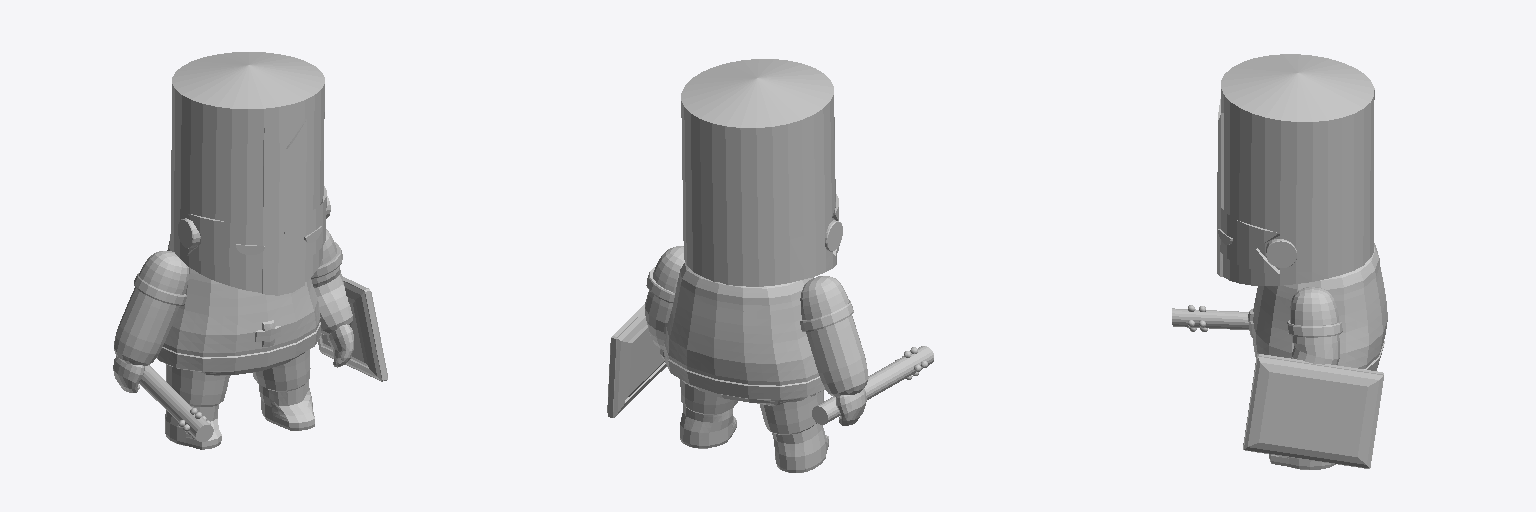
Rendered from player.obj.
The picture shows the model from 3 angles: view 1: azimuth 30°, elevation 25°; view 2: azimuth 150°, elevation 25°; view 3: azimuth 270°, elevation 25°; orthographic projection.
Parts seen in each view (by area): view 1: KNIGHT_BODY1_CENTRE_HEAD_HEAD1_Cylinder2_Cylinder, KNIGHT_BODY1_BODY, KNIGHT_BODY1_CENTRE_HEAD_HEAD1_Cylinder6_Cylinder5, KNIGHT_meshes_Left_ARM_Left_ARM1, KNIGHT_meshes_Left_LEG_Left_LEG1, KNIGHT_meshes_Right_LEG_Right_LEG1, KNIGHT_BODY1_CENTRE_CHEST_LEFT_SHOULDER_LEFT_ARM_HAND_Cube_Cube, KNIGHT_meshes_Right_ARM_Right_ARM1, KNIGHT_BODY1_CENTRE_CHEST_RIGHT_SHOULDER_RIGHT_ARM_HAND_11_.012, KNIGHT_BODY1_CENTRE_CHEST_LEFT_SHOULDER_LEFT_ARM_HAND_HAND1, KNIGHT_BODY1_CENTRE_CHEST_RIGHT_SHOULDER_RIGHT_ARM_HAND_11_HAND, KNIGHT_BODY1_CENTRE_HEAD_HEAD1_Cylinder3_Cylinder1; view 2: KNIGHT_BODY1_CENTRE_HEAD_HEAD1_Cylinder2_Cylinder, KNIGHT_BODY1_BODY, KNIGHT_meshes_Left_ARM_Left_ARM1, KNIGHT_BODY1_CENTRE_CHEST_LEFT_SHOULDER_LEFT_ARM_HAND_Cube_Cube, KNIGHT_meshes_Right_LEG_Right_LEG1, KNIGHT_meshes_Left_LEG_Left_LEG1, KNIGHT_meshes_Right_ARM_Right_ARM1, KNIGHT_BODY1_CENTRE_CHEST_RIGHT_SHOULDER_RIGHT_ARM_HAND_11_.012, KNIGHT_BODY1_CENTRE_CHEST_RIGHT_SHOULDER_RIGHT_ARM_HAND_11_HAND; view 3: KNIGHT_BODY1_CENTRE_HEAD_HEAD1_Cylinder2_Cylinder, KNIGHT_BODY1_CENTRE_CHEST_LEFT_SHOULDER_LEFT_ARM_HAND_Cube_Cube, KNIGHT_BODY1_BODY, KNIGHT_meshes_Right_ARM_Right_ARM1, KNIGHT_BODY1_CENTRE_HEAD_HEAD1_Cylinder6_Cylinder5, KNIGHT_BODY1_CENTRE_CHEST_RIGHT_SHOULDER_RIGHT_ARM_HAND_11_.012, KNIGHT_BODY1_CENTRE_HEAD_HEAD1_Cylinder3_Cylinder1, KNIGHT_meshes_Left_LEG_Left_LEG1.
Part boxes in pixels (x1,y1,x2,y2): KNIGHT_BODY1_CENTRE_HEAD_HEAD1_Cylinder2_Cylinder: (170, 52, 324, 292); KNIGHT_BODY1_BODY: (157, 241, 320, 375); KNIGHT_BODY1_CENTRE_HEAD_HEAD1_Cylinder6_Cylinder5: (187, 119, 326, 295); KNIGHT_meshes_Left_ARM_Left_ARM1: (114, 251, 188, 365); KNIGHT_meshes_Left_LEG_Left_LEG1: (253, 349, 314, 430); KNIGHT_meshes_Right_LEG_Right_LEG1: (165, 364, 229, 449); KNIGHT_BODY1_CENTRE_CHEST_LEFT_SHOULDER_LEFT_ARM_HAND_Cube_Cube: (318, 277, 387, 381); KNIGHT_meshes_Right_ARM_Right_ARM1: (311, 229, 352, 334); KNIGHT_BODY1_CENTRE_CHEST_RIGHT_SHOULDER_RIGHT_ARM_HAND_11_.012: (139, 365, 213, 441); KNIGHT_BODY1_CENTRE_CHEST_LEFT_SHOULDER_LEFT_ARM_HAND_HAND1: (327, 324, 353, 367); KNIGHT_BODY1_CENTRE_CHEST_RIGHT_SHOULDER_RIGHT_ARM_HAND_11_HAND: (113, 356, 144, 392); KNIGHT_BODY1_CENTRE_HEAD_HEAD1_Cylinder3_Cylinder1: (178, 196, 330, 248); KNIGHT_BODY1_CENTRE_HEAD_HEAD1_Cylinder2_Cylinder: (681, 59, 836, 286); KNIGHT_BODY1_BODY: (664, 262, 825, 405); KNIGHT_meshes_Left_ARM_Left_ARM1: (800, 276, 868, 396); KNIGHT_BODY1_CENTRE_CHEST_LEFT_SHOULDER_LEFT_ARM_HAND_Cube_Cube: (607, 304, 666, 417); KNIGHT_meshes_Right_LEG_Right_LEG1: (760, 391, 828, 472); KNIGHT_meshes_Left_LEG_Left_LEG1: (680, 379, 737, 448); KNIGHT_meshes_Right_ARM_Right_ARM1: (645, 246, 684, 349); KNIGHT_BODY1_CENTRE_CHEST_RIGHT_SHOULDER_RIGHT_ARM_HAND_11_.012: (812, 346, 933, 424); KNIGHT_BODY1_CENTRE_CHEST_RIGHT_SHOULDER_RIGHT_ARM_HAND_11_HAND: (836, 389, 866, 425); KNIGHT_BODY1_CENTRE_HEAD_HEAD1_Cylinder2_Cylinder: (1221, 54, 1374, 285); KNIGHT_BODY1_CENTRE_CHEST_LEFT_SHOULDER_LEFT_ARM_HAND_Cube_Cube: (1243, 354, 1383, 468); KNIGHT_BODY1_BODY: (1248, 243, 1387, 370); KNIGHT_meshes_Right_ARM_Right_ARM1: (1287, 287, 1342, 364); KNIGHT_BODY1_CENTRE_HEAD_HEAD1_Cylinder6_Cylinder5: (1217, 99, 1279, 276); KNIGHT_BODY1_CENTRE_CHEST_RIGHT_SHOULDER_RIGHT_ARM_HAND_11_.012: (1172, 308, 1248, 329); KNIGHT_BODY1_CENTRE_HEAD_HEAD1_Cylinder3_Cylinder1: (1266, 239, 1297, 267); KNIGHT_meshes_Left_LEG_Left_LEG1: (1269, 454, 1335, 469).
Size of the model in its own units: 5.78 by 8.57 by 4.56.